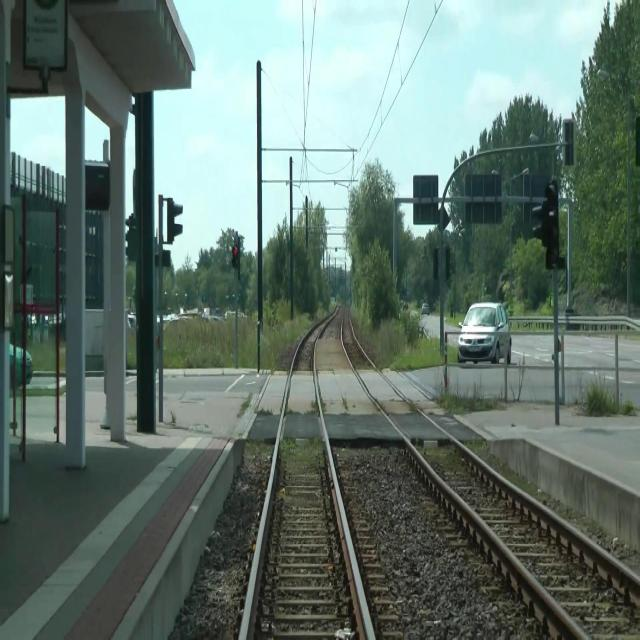rail-track: (342, 305, 640, 639), (245, 319, 370, 639)
